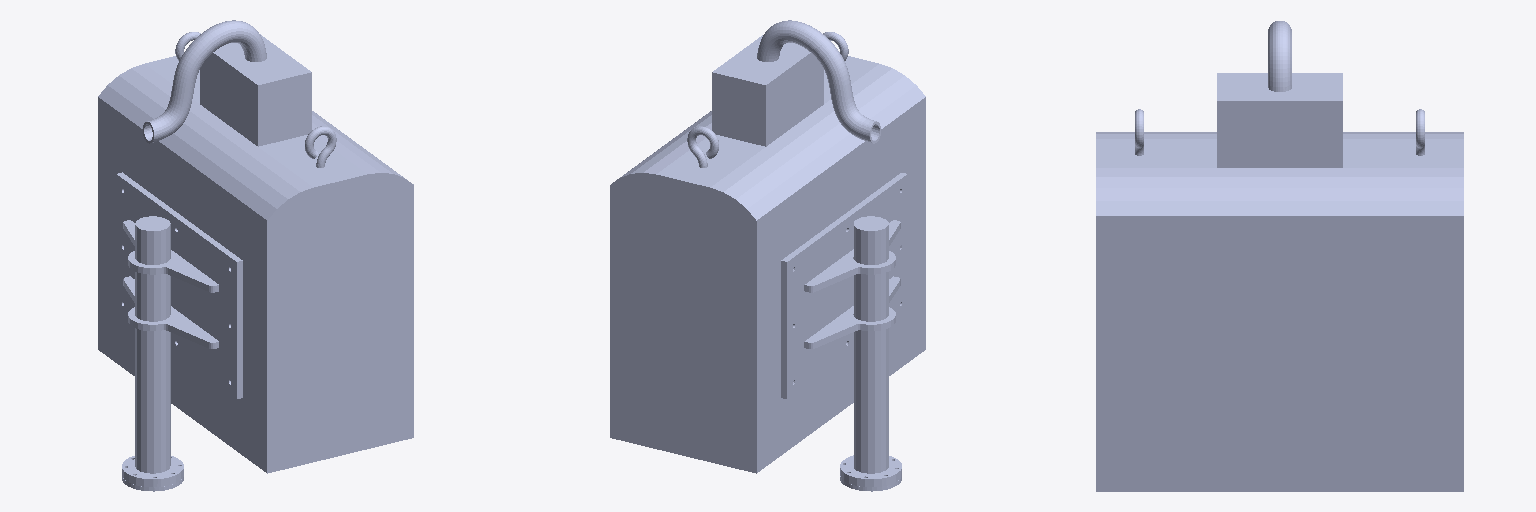
The robot description file, URDF, robot "urdfbot":
<?xml version="1.0"?>
<robot name="urdfbot">

<link name="Torso_Pelvis_Block_Part">
    <visual>
    <origin rpy="0 0 0" xyz="0 0 0" />
        <geometry>
            <mesh filename="package://robot_description/meshes/robot/Torso_Pelvis_Block_Part.STL"/>
        </geometry>
        <material
        name="">
        <color
          rgba="0.79216 0.81961 0.93333 1" />
      </material>
    </visual>
</link>
<link name="HipRollR_Part">
    <visual>
    <origin rpy="0 0 0" xyz="0 0 0" />
    <geometry>
        <mesh filename="package://robot_description/meshes/robot/HipRollR_Part.STL"/>
    </geometry>
    <material
        name="">
        <color
          rgba="0.792156862745098 0.819607843137255 0.933333333333333 1" />
      </material>
    </visual>
</link>
<joint name="HipYaw_R" type="revolute">
    <origin xyz="0 -0.13 -0.046446" rpy="0 0 0"/>
    <parent link="Torso_Pelvis_Block_Part"/>
    <child link="HipRollR_Part"/>
    <axis xyz="0 0 -1"/>
    <limit effort="351" velocity="8.3775" lower="-0.4363" upper="0.4363"/>
</joint>

<link
    name="HipPitchR_Part">
    <visual>
      <origin
        xyz="0 0 0"
        rpy="0 0 0" />
      <geometry>
        <mesh
          filename="package://robot_description/meshes/robot/HipPitchR_Part.STL" />
      </geometry>
       <material
        name="">
        <color
          rgba="0.792156862745098 0.819607843137255 0.933333333333333 1" />
      </material>
    </visual>
  </link>
  <joint name="HipRoll_R" type="revolute">
    <origin xyz="0 0.00065 -0.086"
            rpy="0 0 0" />
    <parent link="HipRollR_Part" />
    <child link="HipPitchR_Part" />
    <axis xyz="1 0 0" />
    <limit
      lower="-0.8727"
      upper="0.3927"
      effort="351"
      velocity="8.3775" />
  </joint>

<link
    name="ThighR_Part">
    <visual>
      <origin
        xyz="0 0 0"
        rpy="0 0 0" />
      <geometry>
        <mesh
          filename="package://robot_description/meshes/robot/ThighR_Part.STL" />
      </geometry>
      <material
        name="">
        <color
          rgba="0.792156862745098 0.819607843137255 0.933333333333333 1" />
      </material>
    </visual>
    
  </link>
  <joint
    name="HipPitch_R"
    type="revolute">
    <origin
      xyz="0 0 0"
      rpy="0 0 0" />
    <parent
      link="HipPitchR_Part" />
    <child
      link="ThighR_Part" />
    <axis
      xyz="0 1 0" />
    <limit
      lower="-1.92"
      upper="0.7854"
      effort="298"
      velocity="16.775" />
  </joint>

  <link
    name="ShankR_Part">
   
    <visual>
      <origin
        xyz="0 0 0"
        rpy="0 0 0" />
      <geometry>
        <mesh
          filename="package://robot_description/meshes/robot/ShankR_Part.STL" />
      </geometry>
      <material
        name="">
        <color
          rgba="0.792156862745098 0.819607843137255 0.933333333333333 1" />
      </material>
    </visual>
  </link>

  <joint
    name="KneePitch_R"
    type="revolute">
    <origin
      xyz="0 0 -0.44"
      rpy="0 0 0" />
    <parent
      link="ThighR_Part" />
    <child
      link="ShankR_Part" />
    <axis
      xyz="0 1 0" />
    <limit
      lower="-0.087"
      upper="2.1817"
      effort="420.6"
      velocity="6.9813" />
  
  </joint>
  <link
    name="AnkleRollR_Part">
    <visual>
      <origin
        xyz="0 0 0"
        rpy="0 0 0" />
      <geometry>
        <mesh
          filename="package://robot_description/meshes/robot/AnkleRollR_Part.STL" />
      </geometry>
      <material
        name="">
        <color
          rgba="0.792156862745098 0.819607843137255 0.933333333333333 1" />
      </material>
    </visual>
  </link>
  <joint
    name="AnkleRoll_R"
    type="revolute">
    <origin
      xyz="0 0 -0.43"
      rpy="0 0 0" />
    <parent
      link="ShankR_Part" />
    <child
      link="AnkleRollR_Part" />
    <axis
      xyz="-1 0 0" />
    <limit
      lower="-0.6109"
      upper="0.6109"
      effort="131.4"
      velocity="3.4906" />
  </joint>

  <link
    name="AnklePitch_Part">
   
    <visual>
      <origin
        xyz="0 0 0"
        rpy="0 0 0" />
      <geometry>
        <mesh
          filename="package://robot_description/meshes/robot/AnklePitch_Part.STL" />
      </geometry>
      <material
        name="">
        <color
          rgba="0.792156862745098 0.819607843137255 0.933333333333333 1" />
      </material>
    </visual>
   
  </link>
  <joint
    name="AnklePitch_R"
    type="revolute">
    <origin
      xyz="0 0 0"
      rpy="0 0 0" />
    <parent
      link="AnkleRollR_Part" />
    <child
      link="AnklePitch_Part" />
    <axis
      xyz="0 1 0" />
    <limit
      lower="-1.0821"
      upper="0.7854"
      effort="262.8"
      velocity="6.9813" />
   
  </joint>
  <link
    name="HipRollL_Part">
    
    <visual>
      <origin
        xyz="0 0 0"
        rpy="0 0 0" />
      <geometry>
        <mesh
          filename="package://robot_description/meshes/robot/HipRollL_Part.STL" />
      </geometry>
      <material
        name="">
        <color
          rgba="0.792156862745098 0.819607843137255 0.933333333333333 1" />
      </material>
    </visual>
   
  </link>
  <joint
    name="HipYaw_L"
    type="revolute">
    <origin
      xyz="0 0.078 -0.046446"
      rpy="0 0 0" />
    <parent
      link="Torso_Pelvis_Block_Part" />
    <child
      link="HipRollL_Part" />
    <axis
      xyz="0 0 -1" />
    <limit
      lower="-0.4363"
      upper="0.4363"
      effort="351"
      velocity="8.3775" />
   
  </joint>
  <link
    name="HipPitchL_Part">
   
    <visual>
      <origin
        xyz="0 0 0"
        rpy="0 0 0" />
      <geometry>
        <mesh
          filename="package://robot_description/meshes/robot/HipPitchL_Part.STL" />
      </geometry>
      <material
        name="">
        <color
          rgba="0.792156862745098 0.819607843137255 0.933333333333333 1" />
      </material>
    </visual>
    
  </link>
  <joint
    name="HipRoll_L"
    type="revolute">
    <origin
      xyz="0 0.05135 -0.086"
      rpy="0 0 0" />
    <parent
      link="HipRollL_Part" />
    <child
      link="HipPitchL_Part" />
    <axis
      xyz="1 0 0" />
    <limit
      lower="-0.3927"
      upper="0.8727"
      effort="351"
      velocity="8.3775" />
  </joint>
  <link
    name="ThighPartL_Part">
   
    <visual>
      <origin
        xyz="0 0 0"
        rpy="0 0 0" />
      <geometry>
        <mesh
          filename="package://robot_description/meshes/robot/ThighPartL_Part.STL" />
      </geometry>
      <material
        name="">
        <color
          rgba="0.792156862745098 0.819607843137255 0.933333333333333 1" />
      </material>
    </visual>
    
  </link>
  <joint
    name="HipPitch_L"
    type="revolute">
    <origin
      xyz="0 0 0"
      rpy="0 0 0" />
    <parent
      link="HipPitchL_Part" />
    <child
      link="ThighPartL_Part" />
    <axis
      xyz="0 1 0" />
    <limit
      lower="-0.7854"
      upper="1.92"
      effort="298"
      velocity="16.775" />
   
  </joint>
  <link
    name="ShankL_Part">
    
    <visual>
      <origin
        xyz="0 0 0"
        rpy="0 0 0" />
      <geometry>
        <mesh
          filename="package://robot_description/meshes/robot/ShankL_Part.STL" />
      </geometry>
      <material
        name="">
        <color
          rgba="0.792156862745098 0.819607843137255 0.933333333333333 1" />
      </material>
    </visual>
   
  </link>
  <joint
    name="KneePitch_L"
    type="revolute">
    <origin
      xyz="0 0 -0.44"
      rpy="0 0 0" />
    <parent
      link="ThighPartL_Part" />
    <child
      link="ShankL_Part" />
    <axis
      xyz="0 1 0" />
    <limit
      lower="-0.087"
      upper="2.1817"
      effort="420.6"
      velocity="6.9813" />
   
  </joint>
  <link
    name="AnkleRollL_Part">
    
    <visual>
      <origin
        xyz="0 0 0"
        rpy="0 0 0" />
      <geometry>
        <mesh
          filename="package://robot_description/meshes/robot/AnkleRollL_Part.STL" />
      </geometry>
      <material
        name="">
        <color
          rgba="0.792156862745098 0.819607843137255 0.933333333333333 1" />
      </material>
    </visual>
   
  </link>
  <joint
    name="AnkleRoll_L"
    type="revolute">
    <origin
      xyz="0 0 -0.43"
      rpy="0 0 0" />
    <parent
      link="ShankL_Part" />
    <child
      link="AnkleRollL_Part" />
    <axis
      xyz="-1 0 0" />
    <limit
      lower="-0.6109"
      upper="0.6109"
      effort="131.4"
      velocity="3.4906" />
   
  </joint>
  <link
    name="AnklePitchL_Part">
   
    <visual>
      <origin
        xyz="0 0 0"
        rpy="0 0 0" />
      <geometry>
        <mesh
          filename="package://robot_description/meshes/robot/AnklePitchL_Part.STL" />
      </geometry>
      <material
        name="">
        <color
          rgba="0.792156862745098 0.819607843137255 0.933333333333333 1" />
      </material>
    </visual>
    
  </link>
  <joint
    name="AnklePitch_L"
    type="revolute">
    <origin
      xyz="0 0 0"
      rpy="0 0 0" />
    <parent
      link="AnkleRollL_Part" />
    <child
      link="AnklePitchL_Part" />
    <axis
      xyz="0 1 0" />
    <limit
      lower="-0.7854"
      upper="1.0821"
      effort="262.8"
      velocity="6.9813" />
   
  </joint>
  <link
    name="Pelvis_Roll_Part">
   
    <visual>
      <origin
        xyz="0 0 0"
        rpy="0 0 0" />
      <geometry>
        <mesh
          filename="package://robot_description/meshes/robot/Pelvis_Roll_Part.STL" />
      </geometry>
      <material
        name="">
        <color
          rgba="0.79216 0.81961 0.93333 1" />
      </material>
    </visual>
    
  </link>
  <joint
    name="Pelvis_Roll"
    type="revolute">
    <origin
      xyz="0 0 0.030054"
      rpy="0 0 0" />
    <parent
      link="Torso_Pelvis_Block_Part" />
    <child
      link="Pelvis_Roll_Part" />
    <axis
      xyz="-1 0 0" />
    <limit
      lower="-0.3491"
      upper="0.3491"
      effort="130"
      velocity="8.3775" />
   
  </joint>
  <link
    name="Torso">
   
    <visual>
      <origin
        xyz="0 0 0"
        rpy="0 0 0" />
      <geometry>
        <mesh
          filename="package://robot_description/meshes/robot/Torso.STL" />
      </geometry>
      <material
        name="">
        <color
          rgba="0.79216 0.81961 0.93333 1" />
      </material>
    </visual>
   
  </link>
  <joint
    name="Pelvis_Yaw"
    type="revolute">
    <origin
      xyz="-0.1335 0 0"
      rpy="0 0 0" />
    <parent
      link="Pelvis_Roll_Part" />
    <child
      link="Torso" />
    <axis
      xyz="0 0 1" />
    <limit
      lower="-0.3491"
      upper="0.3491"
      effort="130"
      velocity="8.3775" />
  
  </joint>

</robot>

--- Render facts (derived) ---
The picture shows the robot from 3 angles, left to right: view 1: azimuth 30°, elevation 25°; view 2: azimuth 150°, elevation 25°; view 3: azimuth 270°, elevation 25°; orthographic projection.
Model urdfbot with 15 links and 14 joints (14 revolute), rooted at Torso_Pelvis_Block_Part, posed every joint at zero.
Links seen in each view (by area): view 1: Torso; view 2: Torso; view 3: Torso.
Link boxes in pixels (x1,y1,x2,y2): Torso: (98, 20, 413, 491); Torso: (610, 20, 925, 491); Torso: (1096, 21, 1463, 491).
Size in the robot's own frame: 0.2635 by 0.38 by 0.5443 metres.
Meshes: 15 distinct files referenced, 1 mesh visuals loaded (1 binary STL); not drawn: 14 (reference not matched to a file when rendering).